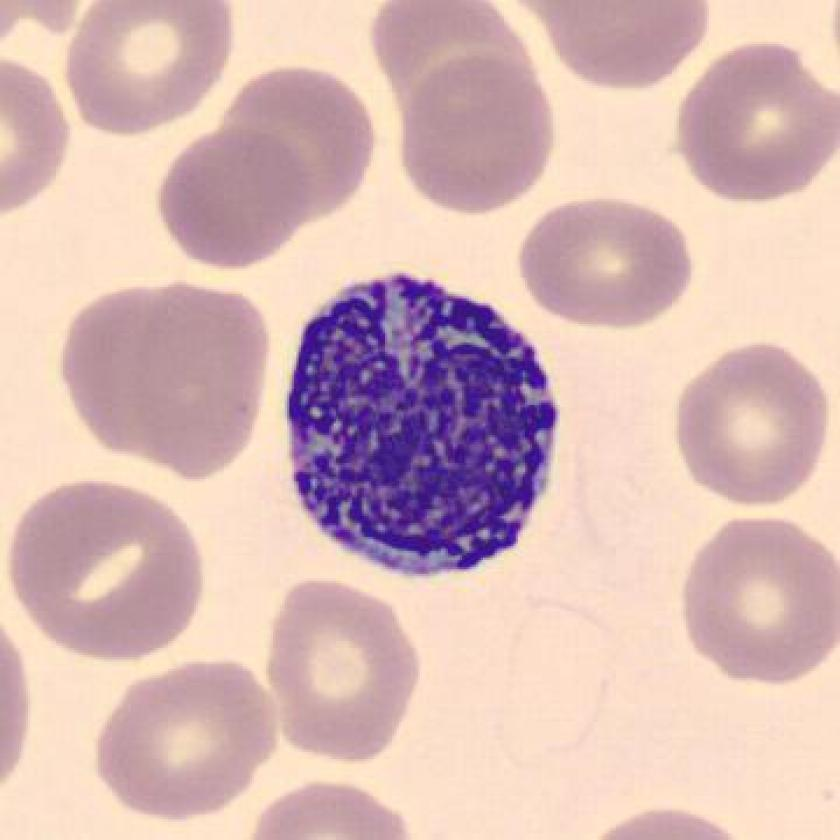basophil: (276, 256, 559, 594)
